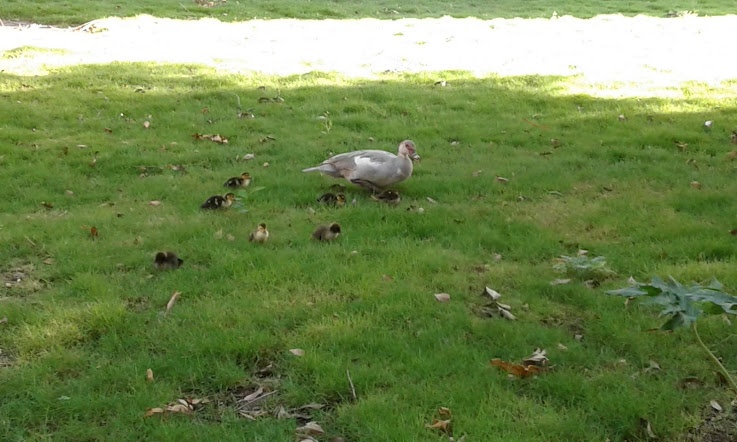pato: (317, 141, 421, 186)
